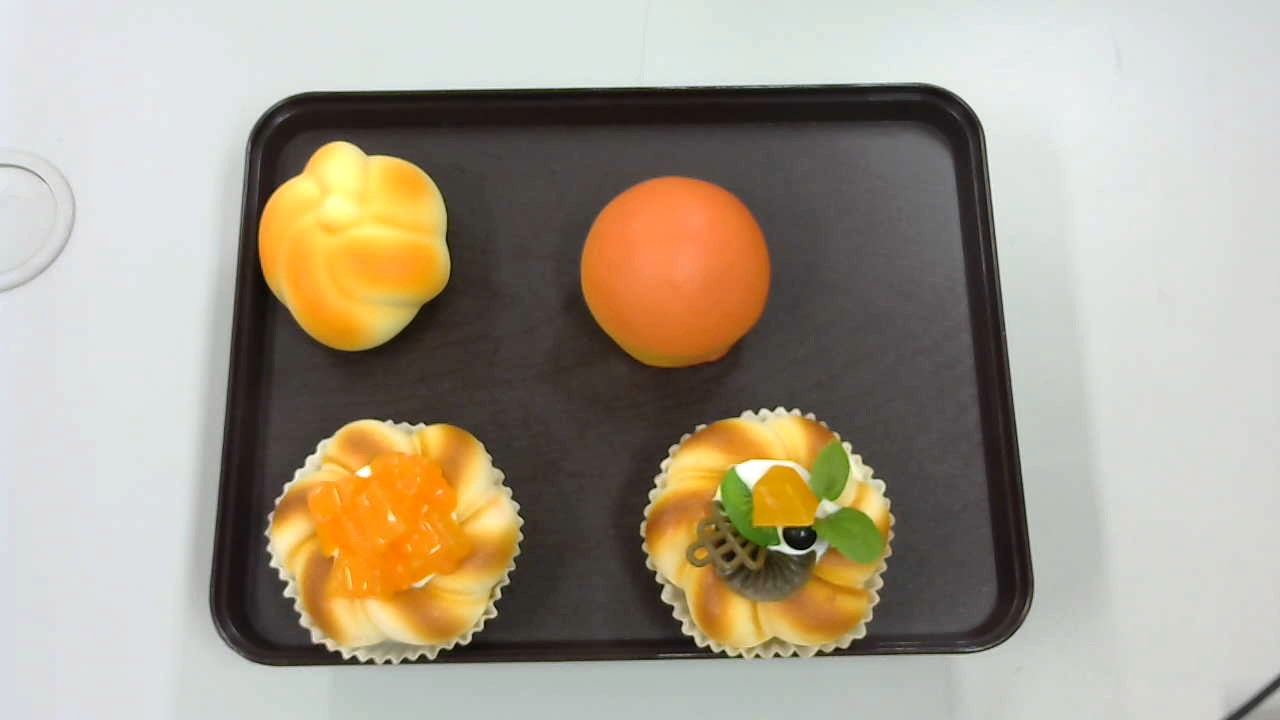bun: (579, 174, 772, 369)
fruit tart: (640, 405, 897, 660)
mango tart: (264, 419, 523, 662)
twist bread: (256, 140, 453, 353)
